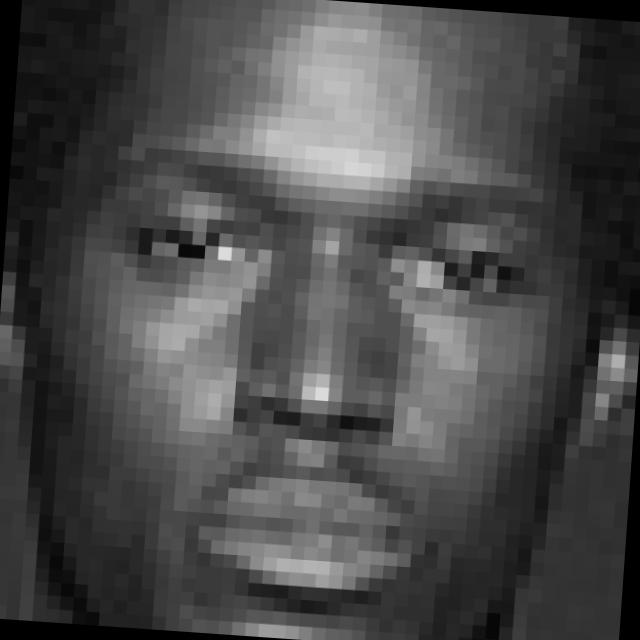neutral: (94, 138, 569, 616)
